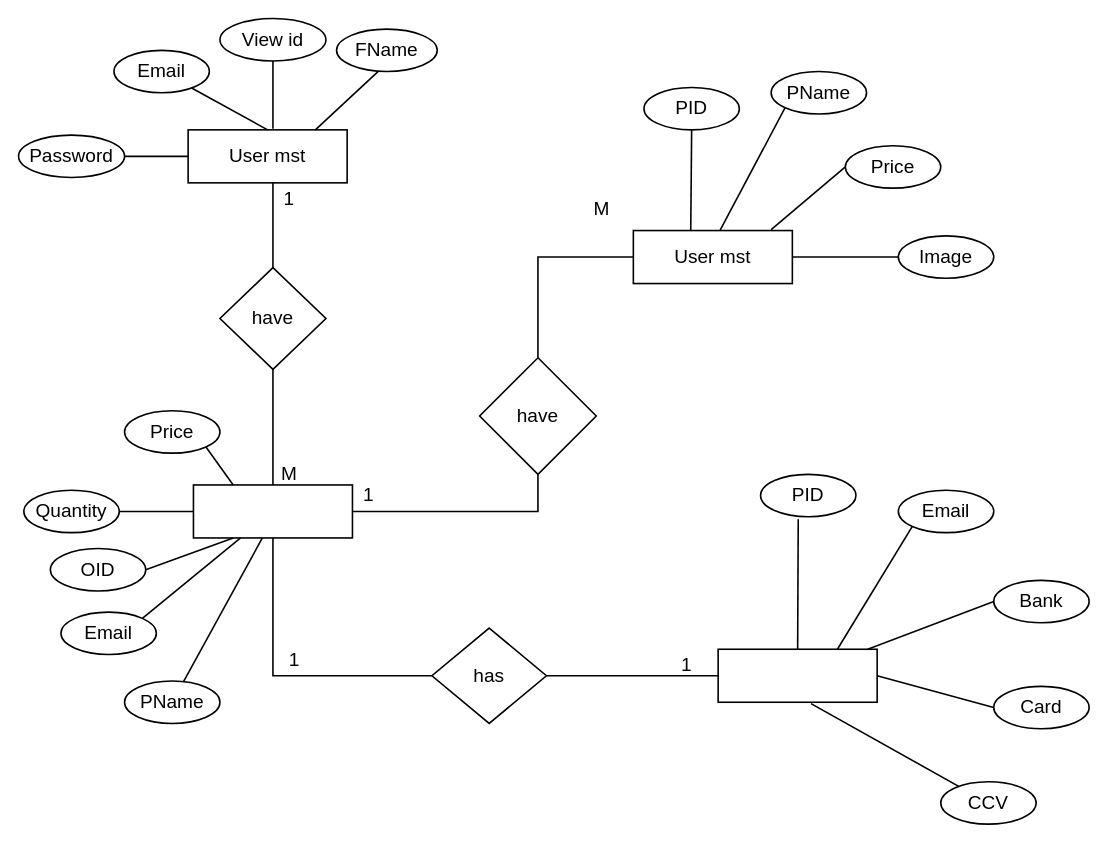
This 1109x844 diagram has some shape labels left out. Each missing label, with the centre of its shape:
"Order mst" belongs at point 272,511.
"Payment mst" belongs at point 797,675.
